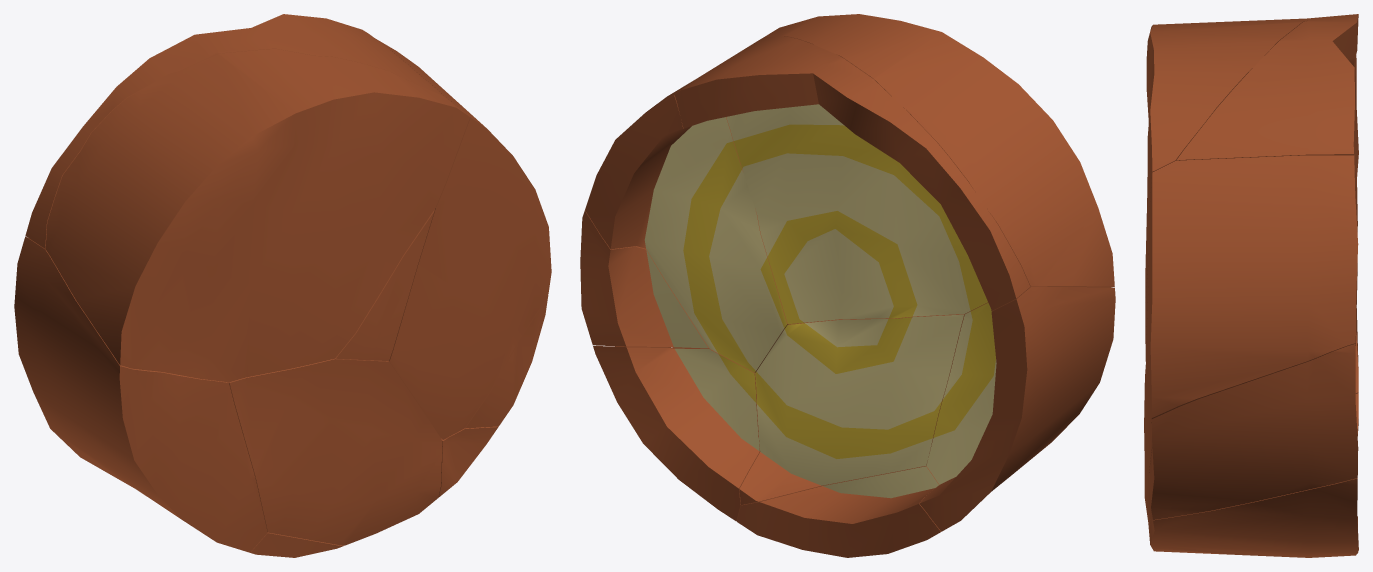
The model's file is Log_Pieces.fbx.
3 renders of one model, left to right at view 1: azimuth 30°, elevation 25°; view 2: azimuth 150°, elevation 25°; view 3: azimuth 270°, elevation 25°, orthographic. The views are drawn at different scales.
Parts seen in each view (by area): view 1: Log_cell.006, Log_cell.001, Log_cell.007, Log_cell.002, Log_cell, Log_cell.005, Log_cell.004, Log_cell.003; view 2: Log_cell, Log_cell.006, Log_cell.002, Log_cell.007, Log_cell.001, Log_cell.004, Log_cell.003, Log_cell.005; view 3: Log_cell.007, Log_cell.005, Log_cell, Log_cell.006, Log_cell.004, Log_cell.002, Log_cell.001.
Part boxes in pixels (<box>): Log_cell.006: <box>45,49,469,382</box>; Log_cell.001: <box>14,236,267,552</box>; Log_cell.007: <box>376,39,551,439</box>; Log_cell.002: <box>229,358,442,545</box>; Log_cell: <box>25,14,449,360</box>; Log_cell.005: <box>465,295,548,428</box>; Log_cell.004: <box>438,426,498,497</box>; Log_cell.003: <box>127,484,343,557</box>; Log_cell: <box>674,36,1030,323</box>; Log_cell.006: <box>764,14,1114,287</box>; Log_cell.002: <box>739,313,965,504</box>; Log_cell.007: <box>585,80,788,372</box>; Log_cell.001: <box>919,287,1115,531</box>; Log_cell.004: <box>593,346,760,521</box>; Log_cell.003: <box>737,466,941,557</box>; Log_cell.005: <box>580,210,708,348</box>; Log_cell.007: <box>1145,155,1358,472</box>; Log_cell.005: <box>1149,344,1358,519</box>; Log_cell: <box>1145,14,1358,349</box>; Log_cell.006: <box>1145,17,1319,302</box>; Log_cell.004: <box>1149,478,1358,557</box>; Log_cell.002: <box>1144,365,1236,554</box>; Log_cell.001: <box>1144,181,1358,393</box>.
Bounding box in the file's own units: 2.01 × 2.01 × 0.7936.
